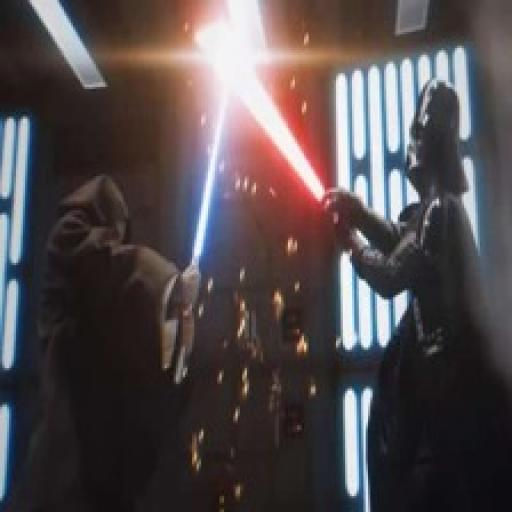human: (329, 74, 512, 511), (0, 164, 213, 510)
lightsaber: (178, 50, 235, 326)
sith saber: (190, 24, 350, 240)
